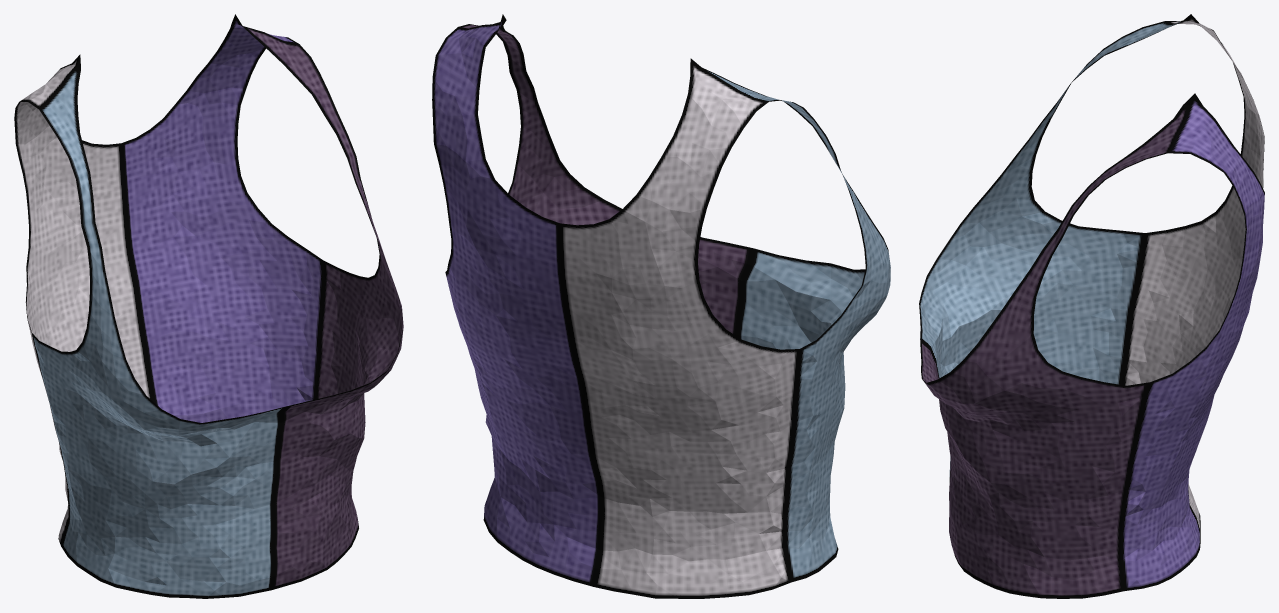
Rendered from tank_knit_gap2_sim.obj.
3 renders of one model, left to right at view 1: azimuth 30°, elevation 25°; view 2: azimuth 150°, elevation 25°; view 3: azimuth 270°, elevation 25°, orthographic. The views are drawn at different scales.
Size of the model in its own units: 20.9 by 31.16 by 19.94.
1 material, 1 textured.
